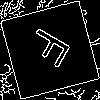F: (25, 25, 81, 75)
